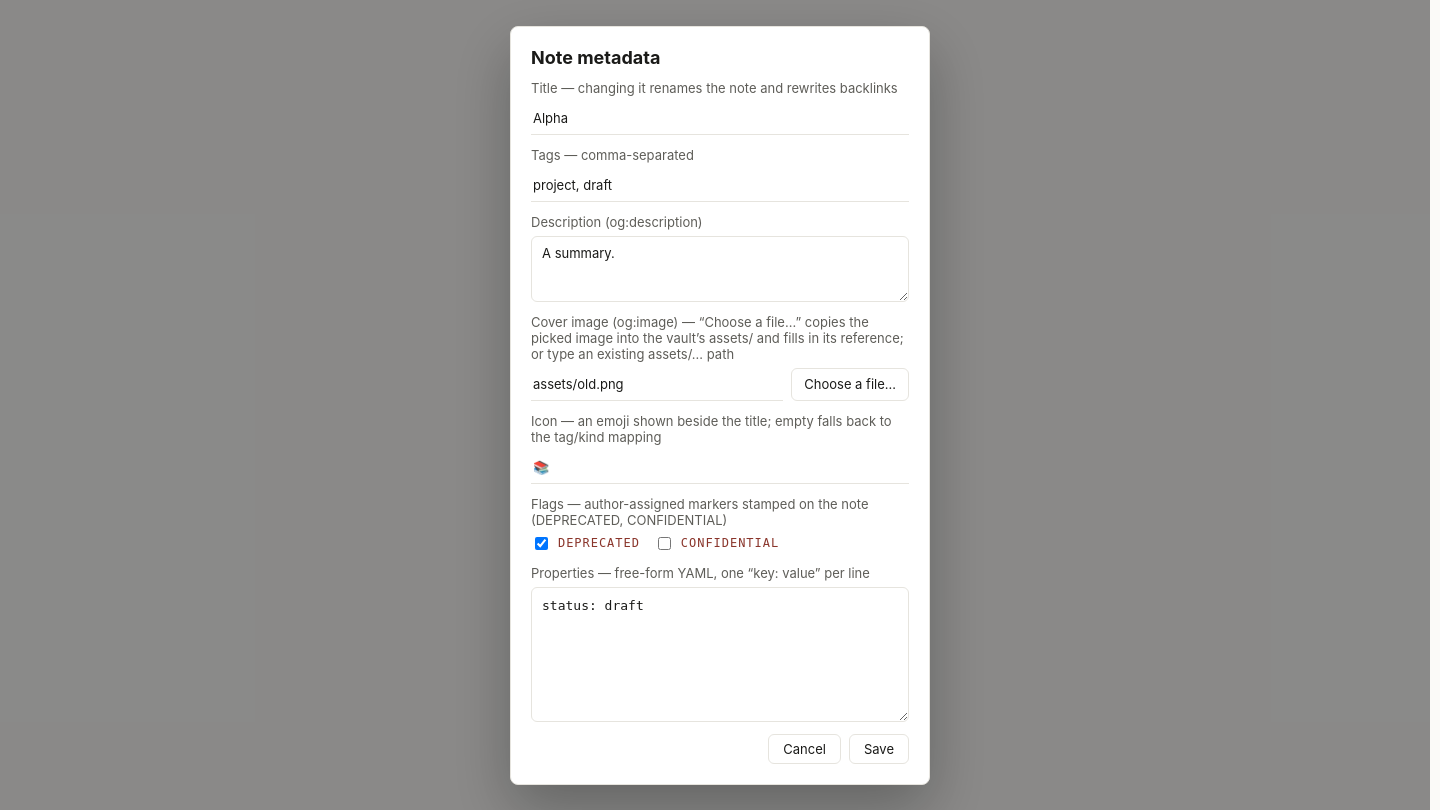
Test case: NoteMetaDialog › surfaces a validation error and keeps the dialog open
Expected: the field labelled "Title" holds "Alpha", 531,102 -> 909,134
Step 1. Click the button "Save" → (879,748), box 849,734 -> 909,764
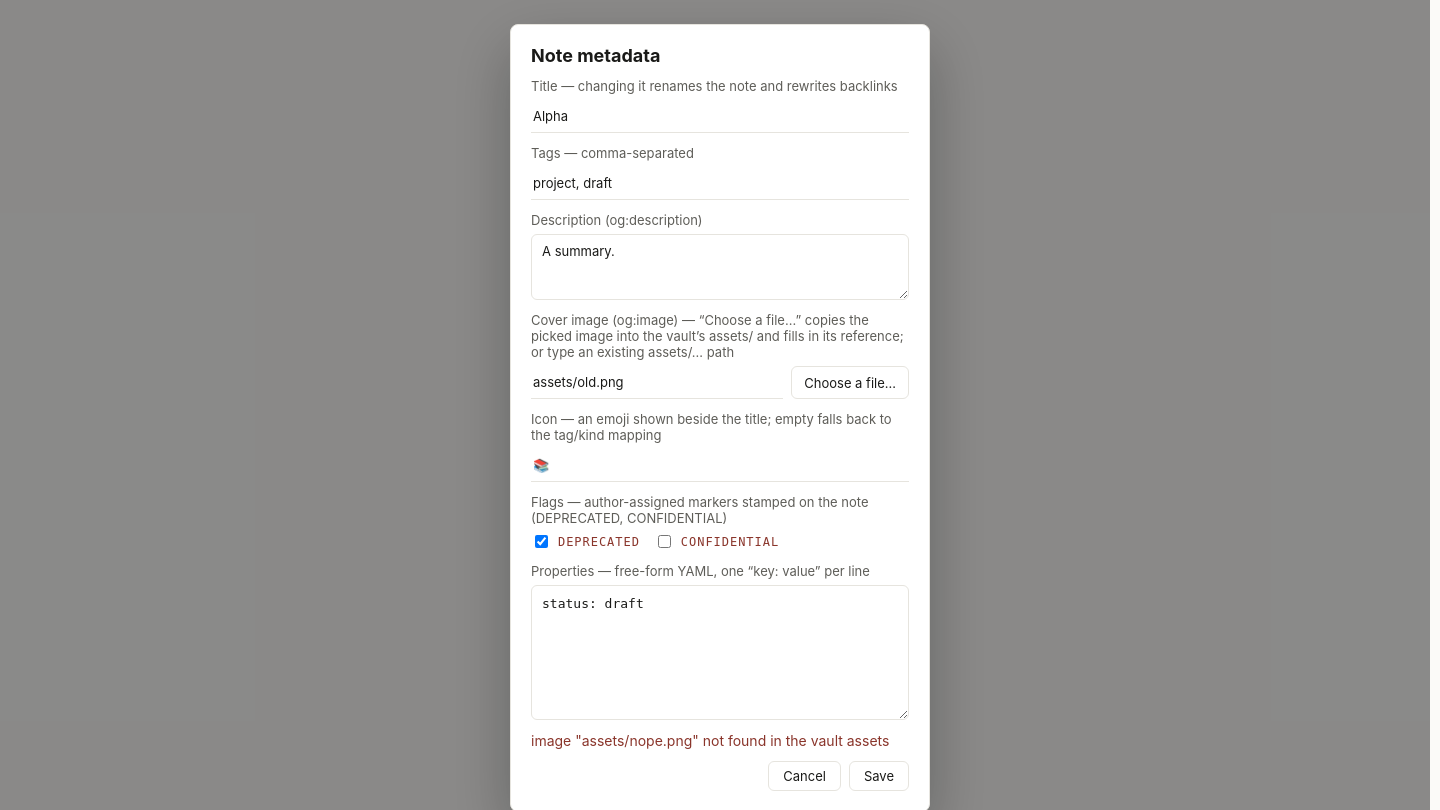
Expected: the text "image \"assets/nope.png\" not found in the vault assets" is shown, 531,732 -> 909,749
